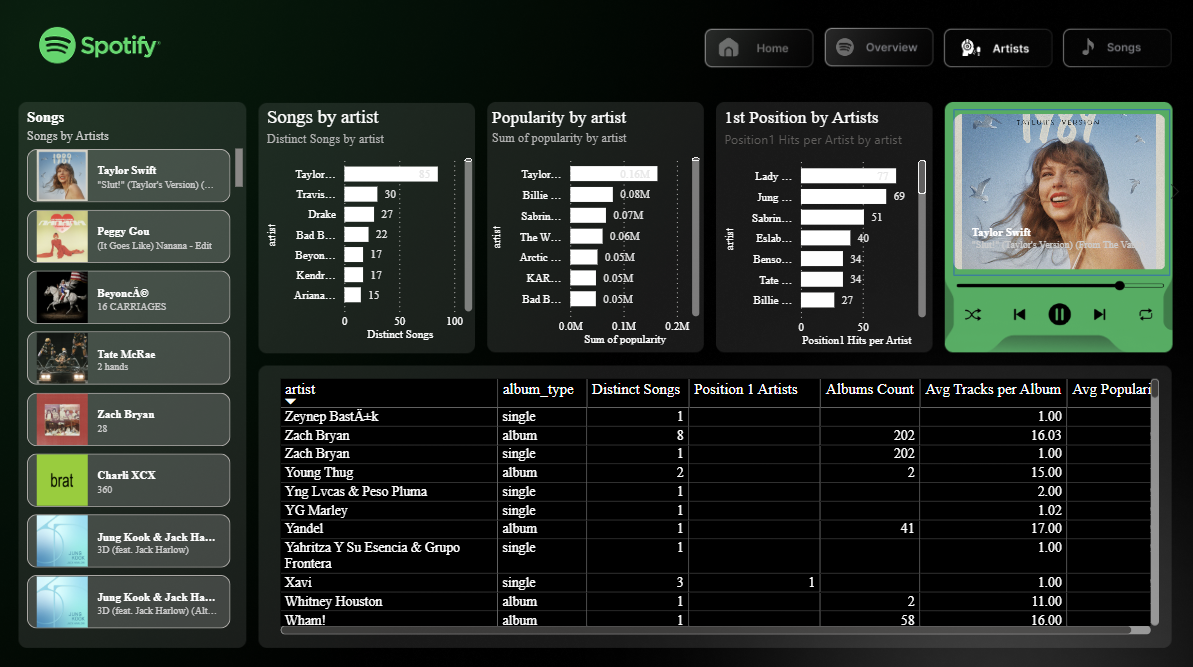

What the dashboard file says about the page in this screenshot:
{"tool":"powerbi","page":{"name":"Artist","canvas":[1280,720],"ordinal":2},"visuals":[{"type":"advancedSlicerVisual","title":"Songs","fields":{"Values":["Top-50-World.song"]},"box":[27.5,117.5,240,567.5],"z":0},{"type":"advancedSlicerVisual","title":"Songs","fields":{"Values":["Top-50-World.song"]},"box":[995,117.5,278.8,178.8],"z":1000},{"type":"image","box":[1009.1,256.5,250.6,140],"z":2000},{"type":"shape","box":[1021.2,118.8,231.2,177.5],"z":3000},{"type":"clusteredBarChart","title":"1st Position by Artists","fields":{"Category":["Top-50-World.artist"],"Y":["_Measures.Position1 Hits per Artist"]},"box":[771.9,116,225,260],"z":4000},{"type":"clusteredBarChart","title":"Popularity by artist","fields":{"Category":["Top-50-World.artist"],"Y":["Sum(Top-50-World.popularity)"]},"box":[524.3,116.5,231.7,258.9],"z":5000},{"type":"clusteredBarChart","title":"Songs by artist","fields":{"Category":["Top-50-World.artist"],"Y":["_Measures.Distinct Songs"]},"box":[283.5,116.5,229.1,253.7],"z":6000},{"type":"actionButton","box":[758.5,33.4,108.8,40],"z":7000},{"type":"actionButton","box":[887.3,33.4,108.8,40],"z":8000},{"type":"actionButton","box":[1012.3,33.4,108.8,40],"z":9000},{"type":"actionButton","box":[1139.8,33.4,108.8,40],"z":10000},{"type":"tableEx","fields":{"Values":["Top-50-World.artist","Top-50-World.album_type","_Measures.Distinct Songs","_Measures.Position 1 Artists","_Measures.Albums Count","_Measures.Avg Tracks per Album","_Measures.Avg Popularity"]},"box":[298,401.7,948.3,282.3],"z":11000}]}

Visuals, with their boxes in screenshot pixels (x1, y1, x2, y2), scaled from the page's 1280x720 canvas onto the 1193x667 screenshot:
"Songs" advancedSlicerVisual: [26,109,249,635]
"Songs" advancedSlicerVisual: [927,109,1187,274]
image: [941,238,1174,367]
shape: [952,110,1167,274]
"1st Position by Artists" clusteredBarChart: [719,107,929,348]
"Popularity by artist" clusteredBarChart: [489,108,705,348]
"Songs by artist" clusteredBarChart: [264,108,478,343]
actionButton: [707,31,808,68]
actionButton: [827,31,928,68]
actionButton: [943,31,1045,68]
actionButton: [1062,31,1164,68]
tableEx - Top-50-World.artist x Top-50-World.album_type: [278,372,1162,634]
